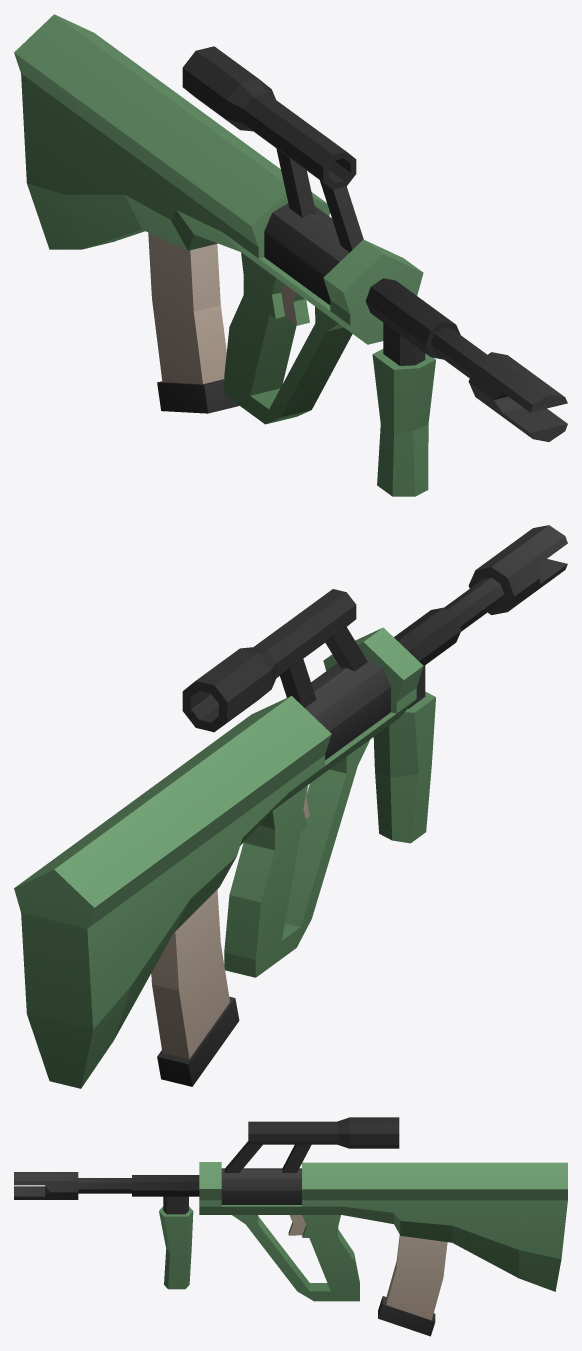
Rendered from Assault Rifle.obj.
3 renders of one model, top to bottom at view 1: azimuth 30°, elevation 25°; view 2: azimuth 150°, elevation 25°; view 3: azimuth 270°, elevation 25°, orthographic. The views are drawn at different scales.
Visible parts, largest first — view 1: Cube.001_Cube.002, Cylinder.002_Cylinder.003, Cube_Cube.004, Cylinder.001, Cube.003_Cube.006, Cylinder; view 2: Cube.001_Cube.002, Cylinder.002_Cylinder.003, Cube_Cube.004, Cylinder.001, Cube.003_Cube.006, Cylinder; view 3: Cube.001_Cube.002, Cylinder.002_Cylinder.003, Cube_Cube.004, Cylinder.001, Cylinder, Cube.003_Cube.006.
Part boxes in pixels (box(x1,y1,x2,y2)): Cube.001_Cube.002: box(14, 14, 423, 424); Cylinder.002_Cylinder.003: box(182, 46, 363, 252); Cube_Cube.004: box(148, 232, 239, 413); Cylinder.001: box(365, 278, 567, 441); Cube.003_Cube.006: box(372, 322, 435, 496); Cylinder: box(264, 203, 349, 304); Cube.001_Cube.002: box(14, 627, 423, 1088); Cylinder.002_Cylinder.003: box(182, 589, 367, 732); Cube_Cube.004: box(151, 889, 239, 1086); Cylinder.001: box(394, 525, 567, 666); Cube.003_Cube.006: box(373, 665, 435, 843); Cylinder: box(305, 657, 390, 760); Cube.001_Cube.002: box(199, 1162, 567, 1301); Cylinder.002_Cylinder.003: box(224, 1117, 399, 1172); Cube_Cube.004: box(378, 1235, 447, 1336); Cylinder.001: box(14, 1172, 199, 1199); Cylinder: box(221, 1168, 301, 1204); Cube.003_Cube.006: box(159, 1196, 193, 1289).
Size of the model in its own units: 0.1883 by 0.8486 by 2.01.
